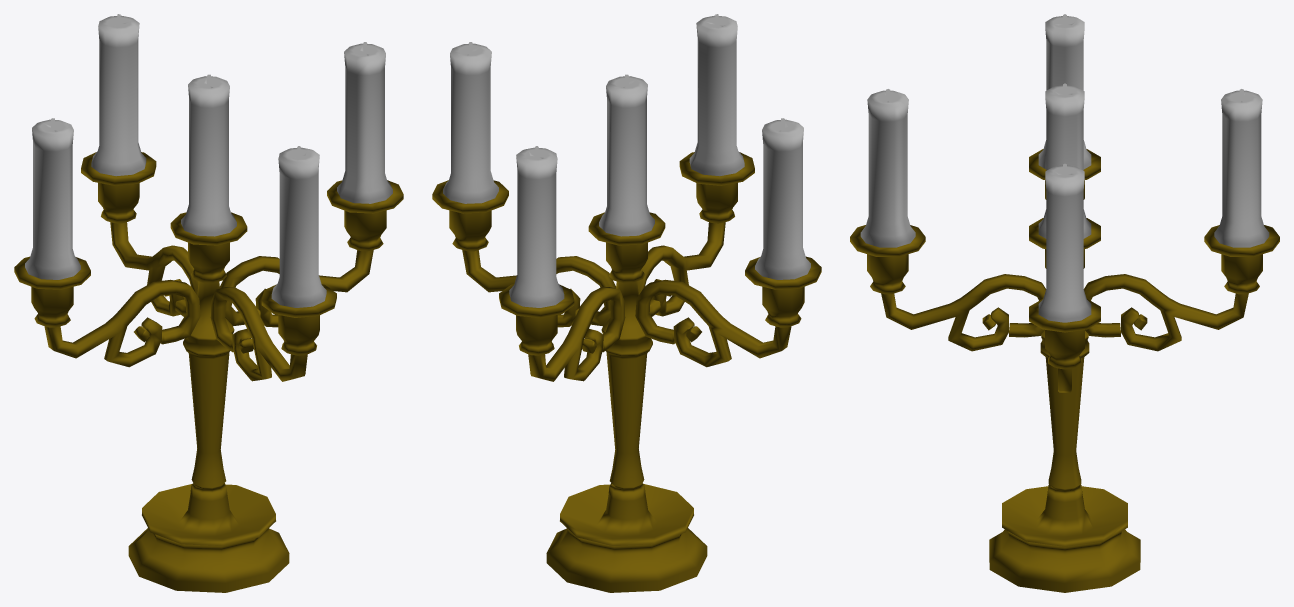
File: SM_candlebra 1.fbx
3 renders of one model, left to right at view 1: azimuth 30°, elevation 25°; view 2: azimuth 150°, elevation 25°; view 3: azimuth 270°, elevation 25°, orthographic.
Parts seen in each view (by area): view 1: polySurface1; view 2: polySurface1; view 3: polySurface1.
Part boxes in pixels (x1,y1,x2,y2): polySurface1: (14, 14, 403, 592); polySurface1: (432, 14, 821, 592); polySurface1: (850, 14, 1279, 592).
Size of the model in its own units: 46.64 by 56.89 by 46.64.
